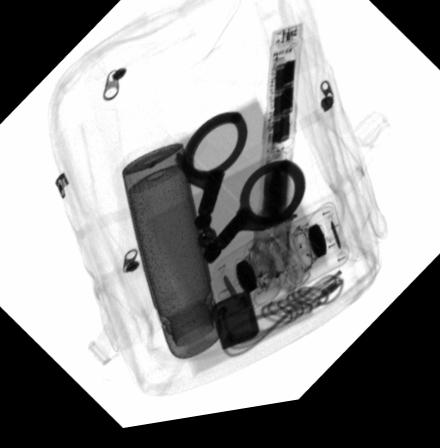Baton: (248, 35, 301, 295)
HandCuffs: (176, 119, 305, 272)
Lighter: (207, 299, 258, 357)
